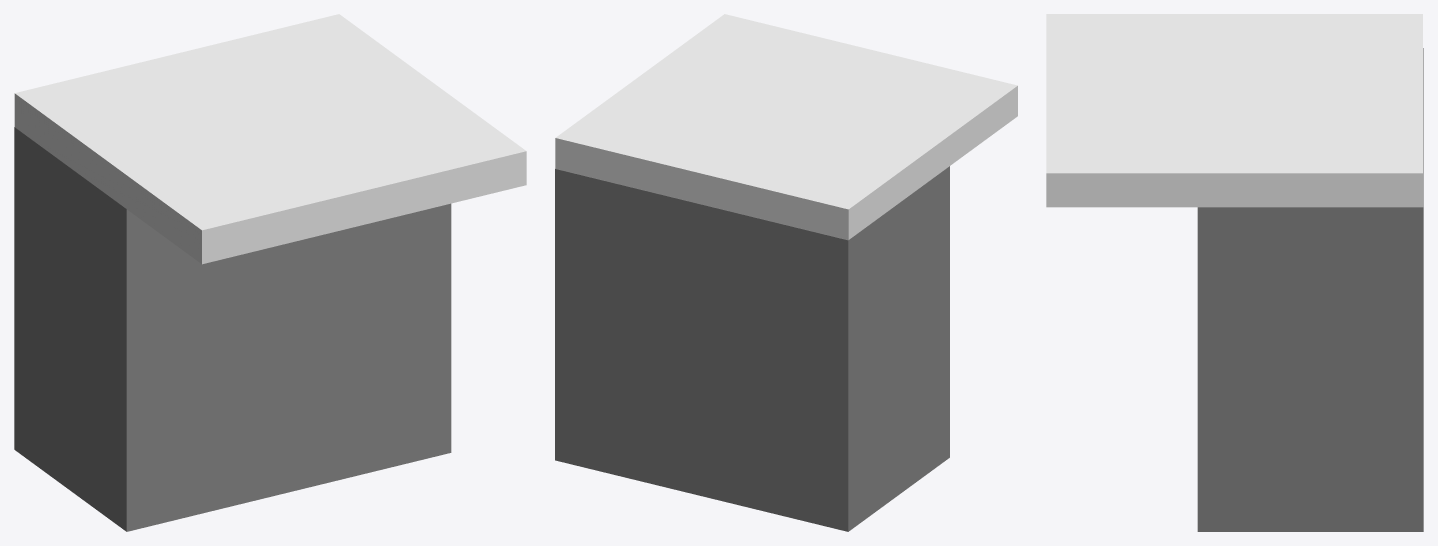
File: Bench_Middle_05.fbx
3 views of the same model, side by side, from view 1: azimuth 30°, elevation 25°; view 2: azimuth 150°, elevation 25°; view 3: azimuth 270°, elevation 25° (orthographic). The views are drawn at different scales.
Visible parts, largest first — view 1: Bench_Middle_05; view 2: Bench_Middle_05; view 3: Bench_Middle_05.
Part boxes in pixels (<box>): Bench_Middle_05: <box>14,14,526,531</box>; Bench_Middle_05: <box>555,14,1017,531</box>; Bench_Middle_05: <box>1046,14,1423,531</box>.
Size of the model in its own units: 150 by 158 by 150.
